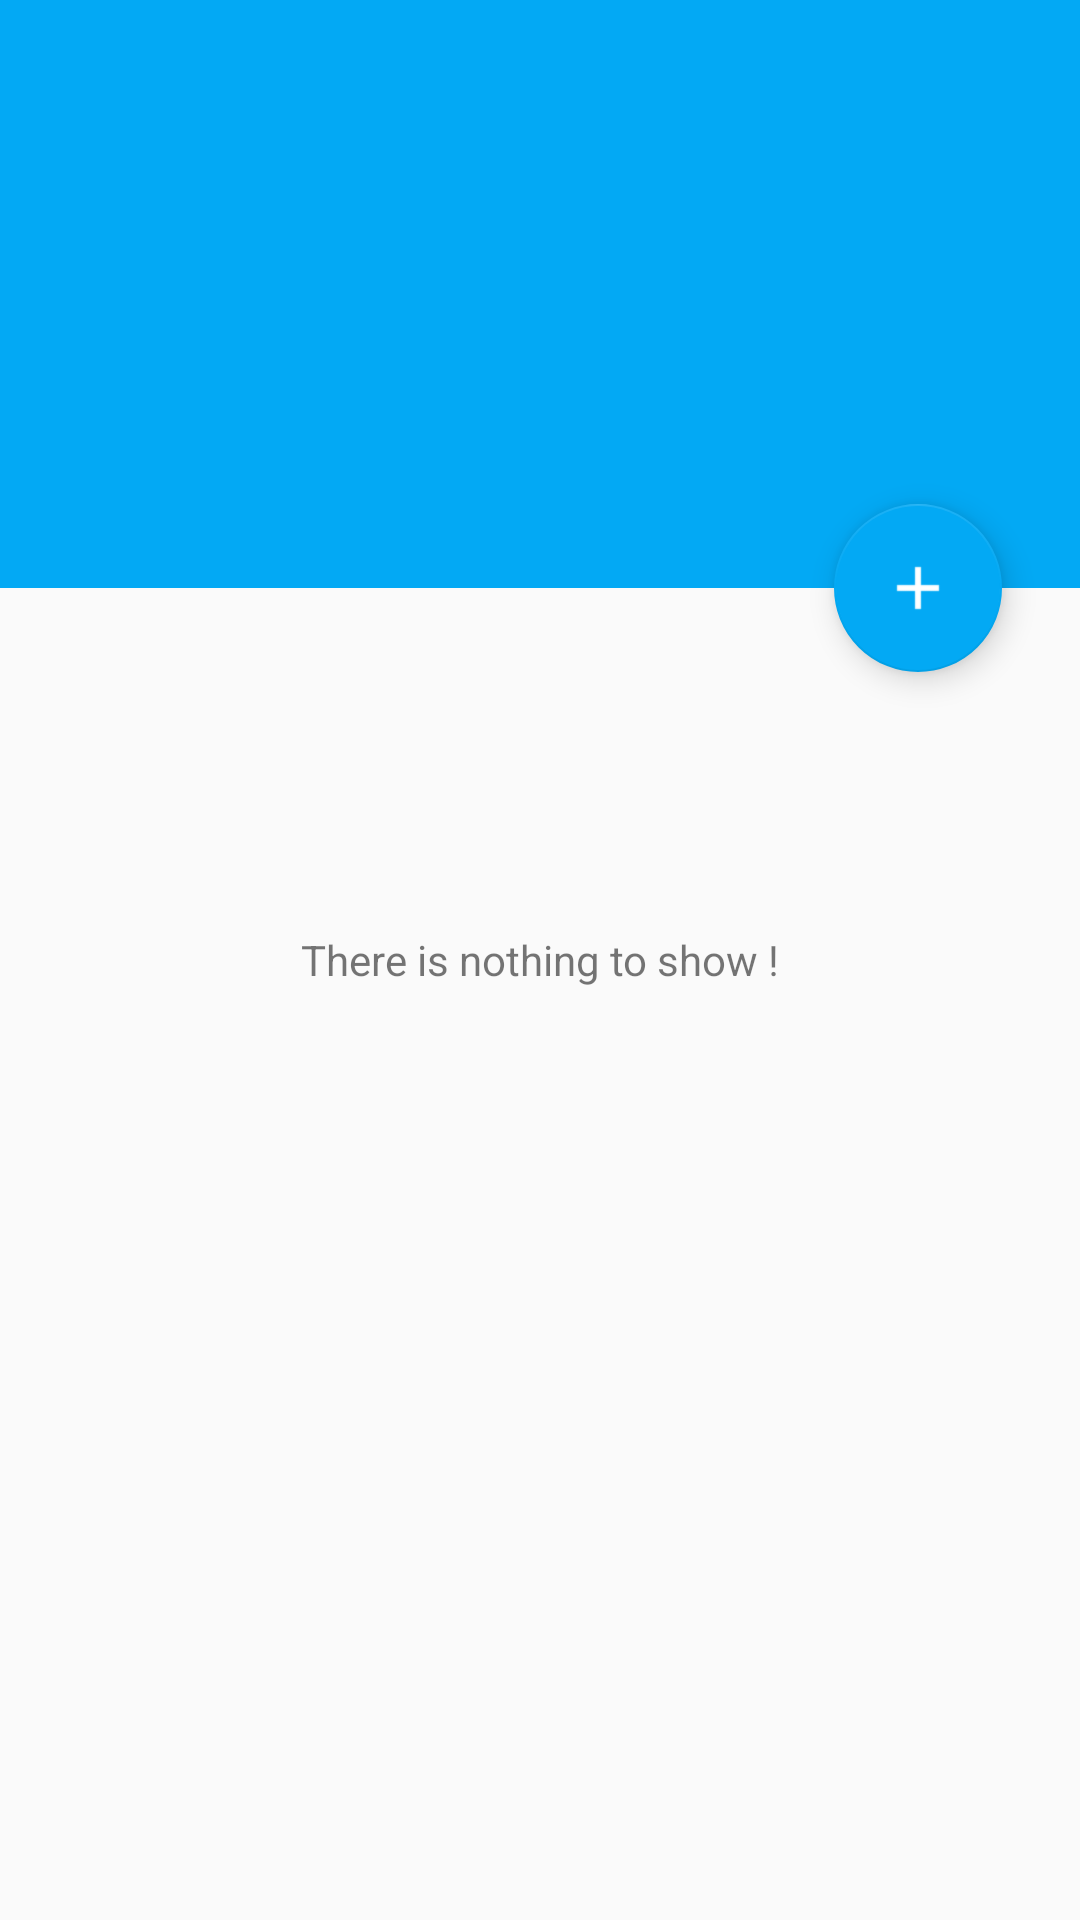

Screen size 1080 x 1920. Icon name, then its center in pixels as point (x, y):
add: point (918, 588)
